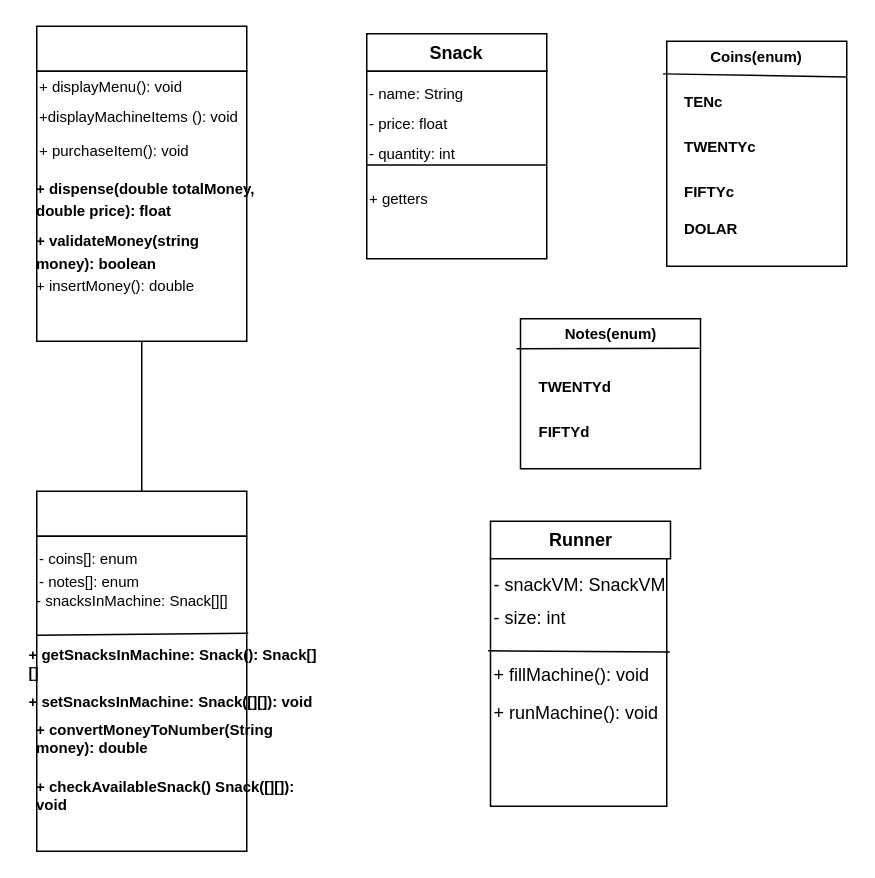
The diagram is 875 pixels wide and 878 high, and some of its shapes have lost their labels. The centre of each missing label's shape, as x and y in pixels:
Snack VM: the point at 141,513
Vending Machine(interface): the point at 141,48
